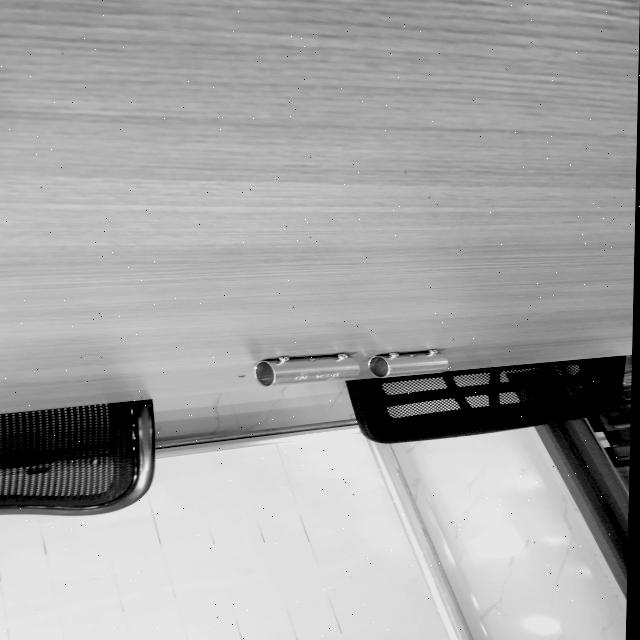Co_Lon: (253, 350, 360, 388)
Co_Nho: (367, 348, 449, 379)
